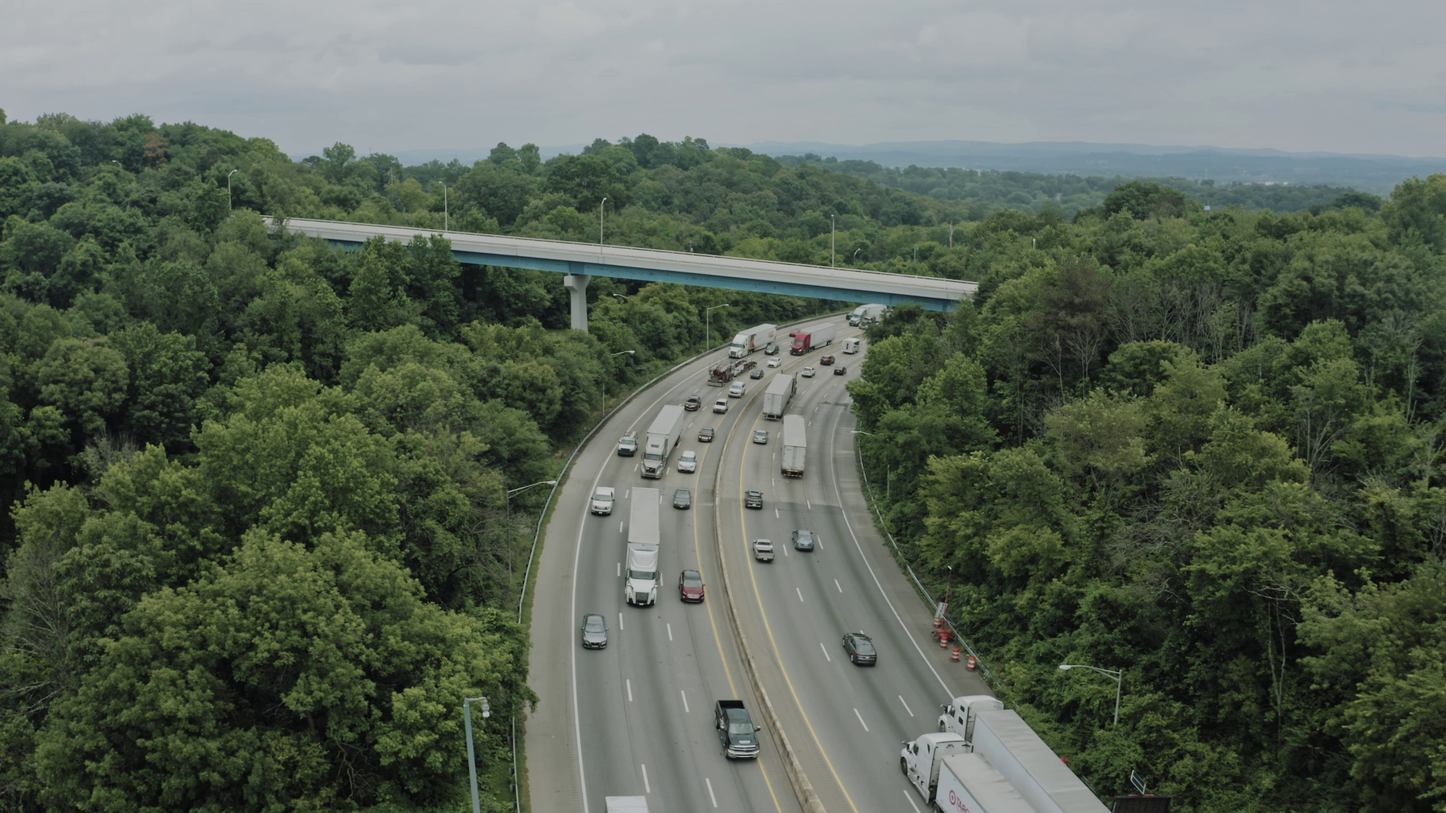Vehicle: (900, 732, 974, 805), (938, 694, 1005, 743), (938, 694, 1004, 742), (714, 700, 761, 760), (624, 546, 661, 607), (636, 434, 670, 484), (842, 632, 877, 666), (581, 614, 609, 649), (678, 568, 705, 603), (591, 487, 615, 516), (728, 332, 753, 359), (707, 363, 735, 387), (752, 539, 775, 562), (791, 530, 814, 552), (792, 332, 813, 356), (677, 450, 697, 474), (782, 372, 801, 397), (849, 303, 867, 327), (673, 488, 692, 509), (744, 489, 763, 509), (841, 337, 861, 354), (728, 380, 746, 398), (698, 427, 715, 443), (684, 395, 701, 411), (713, 398, 729, 414), (753, 430, 769, 444), (617, 436, 627, 456), (859, 316, 873, 330), (801, 366, 816, 378), (764, 344, 779, 356), (820, 354, 835, 366), (750, 368, 764, 380), (834, 365, 847, 375), (771, 357, 782, 368), (846, 311, 854, 320), (707, 385, 724, 387), (707, 385, 723, 387)
